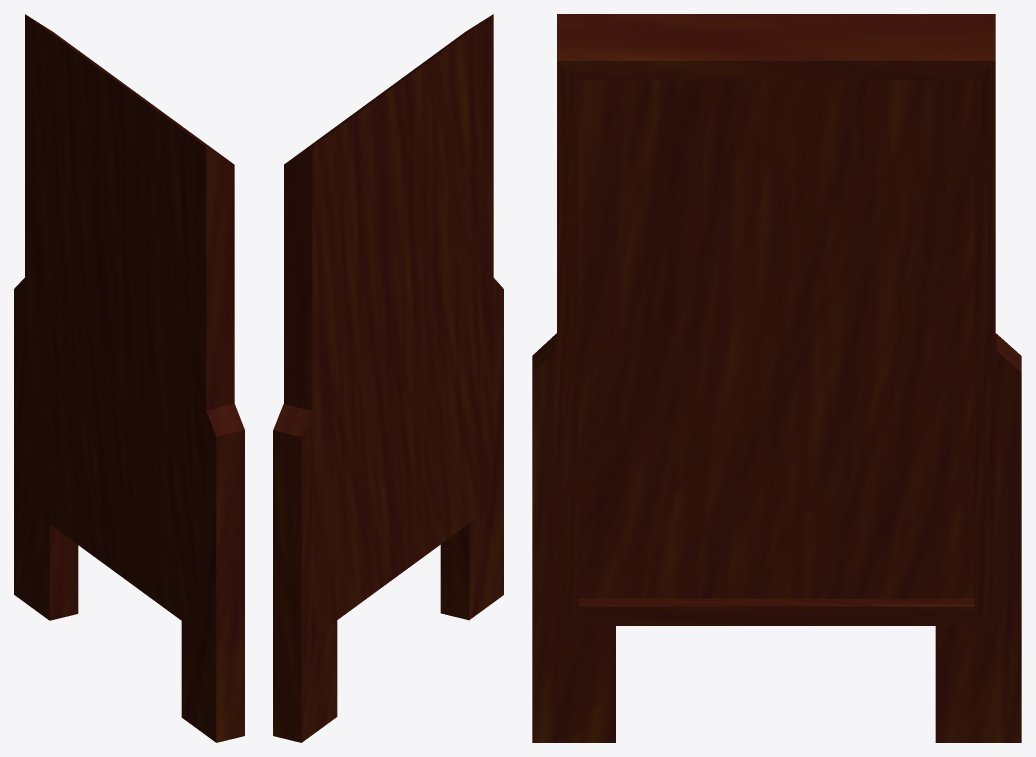
Rendered from Board 2.fbx.
3 renders of one model, left to right at view 1: azimuth 30°, elevation 25°; view 2: azimuth 150°, elevation 25°; view 3: azimuth 270°, elevation 25°, orthographic. The views are drawn at different scales.
Visible parts, largest first — view 1: Board_2; view 2: Board_2; view 3: Board_2.
Boxes of the visible parts, left/top/right/bottom form: Board_2: left=14, top=14, right=244, bottom=742; Board_2: left=273, top=14, right=503, bottom=742; Board_2: left=532, top=14, right=1021, bottom=742.
Size of the model in its own units: 11.86 by 234 by 146.
Materials: 1 (1 with a texture image).
